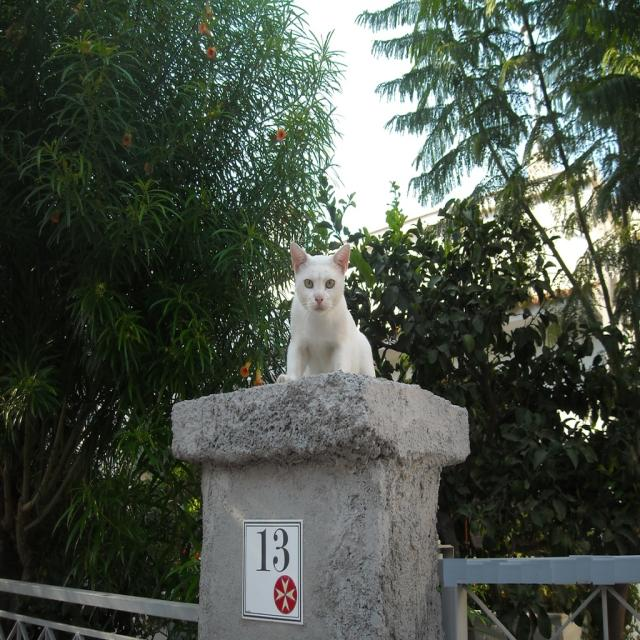Cat: (272, 238, 377, 381)
